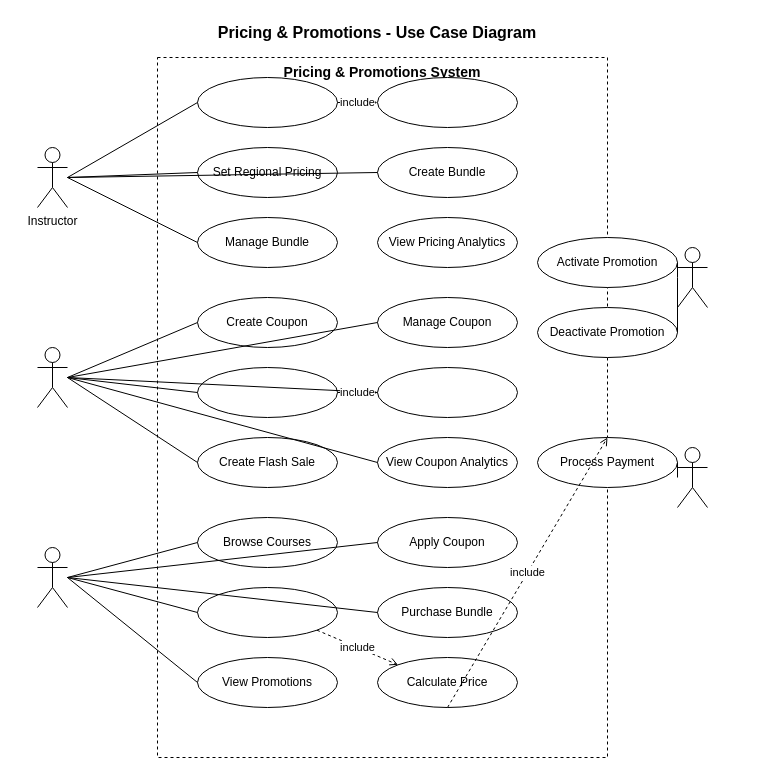
Some shapes in this 759 by 775 pixel diagram are drawn without their labels. Here are the shapes that lost their labels. From the top down, the centre of each, then its label:
pixel 267 102: Set Course Price
pixel 447 102: Update Course Price
pixel 692 277: Scheduler
pixel 52 377: Administrator
pixel 267 392: Create Promotion
pixel 447 392: Schedule Promotion
pixel 692 477: Payment Gateway
pixel 52 577: Student
pixel 267 612: Purchase Course
